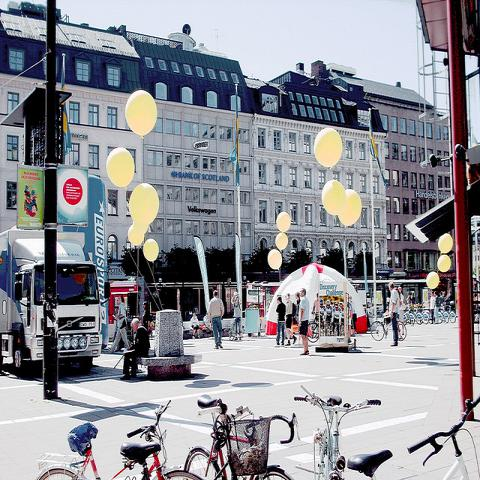truck: (0, 230, 111, 379)
